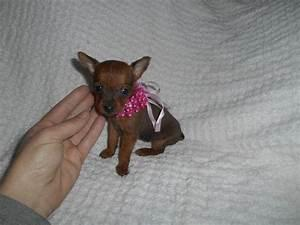dog: (70, 50, 185, 176)
